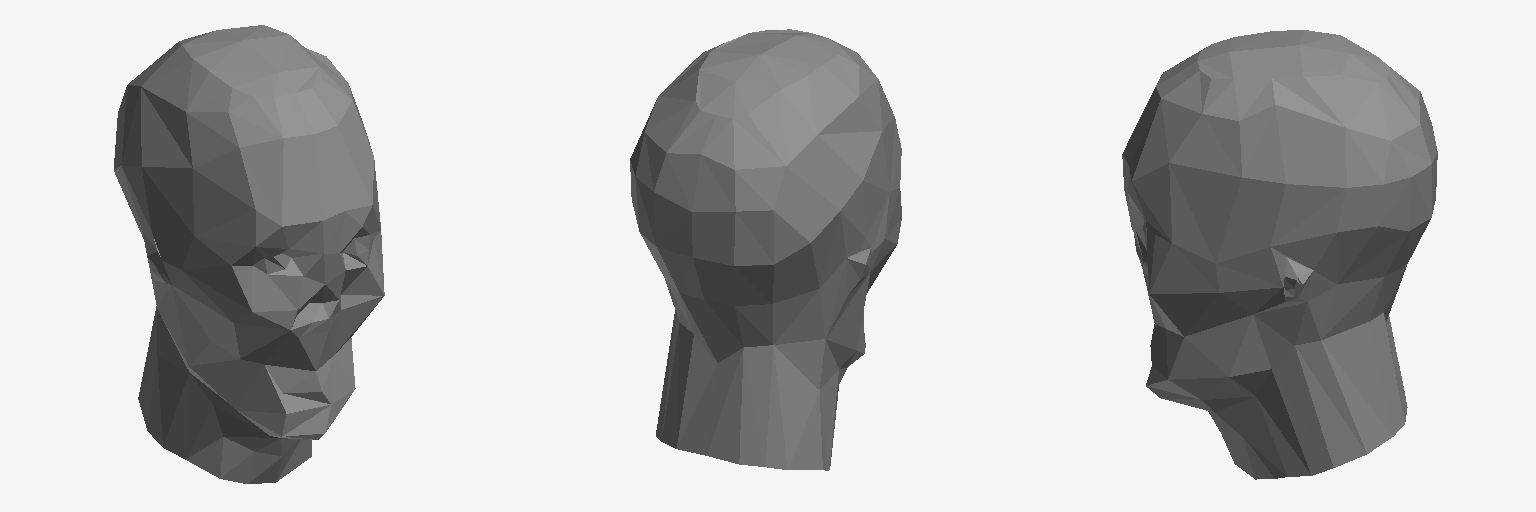
Rendered from head1.obj.
3 renders of one model, left to right at view 1: azimuth 30°, elevation 25°; view 2: azimuth 150°, elevation 25°; view 3: azimuth 270°, elevation 25°, orthographic.
Visible parts, largest first — view 1: smdimport; view 2: smdimport; view 3: smdimport.
Boxes of the visible parts, x1,y1,x2,y2 form: smdimport: [114, 25, 384, 483]; smdimport: [630, 29, 901, 470]; smdimport: [1122, 30, 1437, 479].
Size of the model in its own units: 6.43 by 12.3 by 8.4.